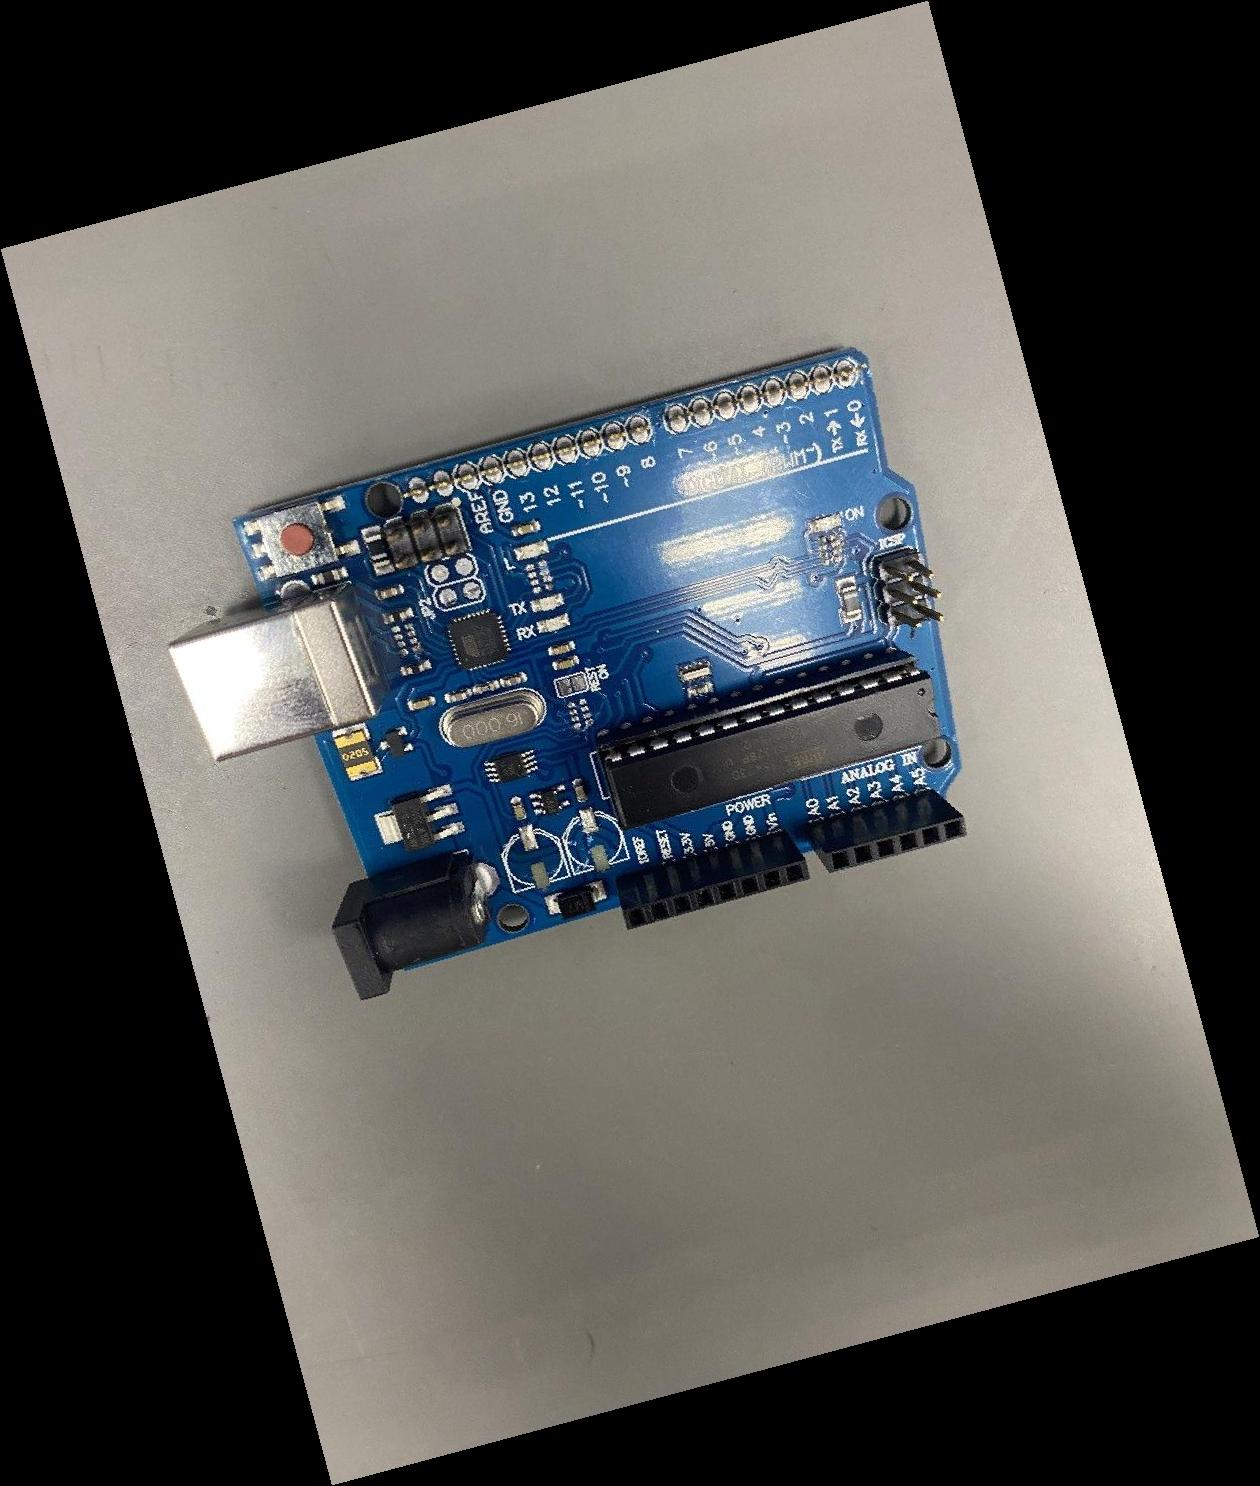ATmega328 chip: (595, 650, 944, 829)
Arduino board: (167, 347, 969, 1001)
USB: (167, 581, 390, 762)
pins: (617, 829, 810, 931), (806, 787, 969, 874)
